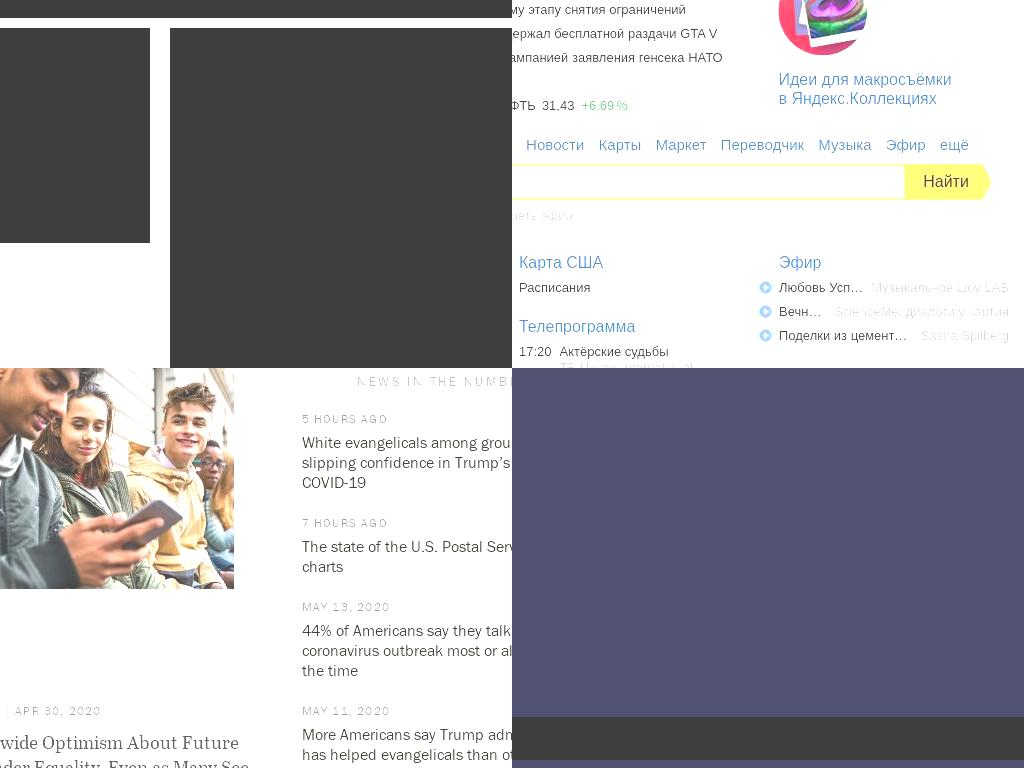button: (0, 368, 234, 590), (0, 28, 150, 243), (301, 431, 512, 492), (301, 619, 512, 680), (301, 535, 512, 576), (301, 723, 512, 764), (778, 0, 899, 60), (778, 70, 952, 108), (904, 164, 992, 201), (779, 328, 921, 345), (779, 280, 871, 297), (720, 136, 804, 154), (526, 136, 585, 154), (818, 136, 873, 154), (655, 136, 707, 154), (779, 304, 834, 321), (598, 136, 642, 154), (885, 136, 926, 154), (939, 136, 969, 154)
field: (512, 164, 904, 201)
heading: (205, 262, 512, 363), (512, 717, 1024, 760), (778, 71, 952, 88), (778, 90, 937, 107), (519, 318, 635, 336), (519, 254, 566, 272), (779, 254, 821, 272), (566, 254, 604, 272)
image: (170, 28, 512, 368), (0, 368, 234, 590), (0, 28, 150, 243), (778, 0, 899, 56), (779, 280, 1009, 296), (779, 304, 1009, 320), (779, 328, 1009, 344), (866, 164, 893, 201)
link: (0, 728, 250, 768), (834, 304, 1010, 321), (871, 280, 1010, 297), (559, 344, 668, 360), (920, 328, 1009, 345), (519, 280, 590, 296), (559, 360, 693, 368), (512, 98, 536, 113)
text: (301, 431, 512, 492), (301, 619, 512, 680), (301, 535, 512, 576), (301, 723, 512, 764), (301, 371, 512, 392), (301, 412, 512, 432), (301, 516, 512, 536), (301, 600, 512, 620), (301, 704, 512, 724), (512, 50, 723, 65), (512, 26, 717, 41), (904, 164, 983, 201), (512, 2, 686, 17), (779, 328, 913, 345), (0, 702, 102, 718), (779, 280, 863, 297), (779, 304, 826, 321), (519, 344, 552, 368), (537, 208, 574, 224), (541, 98, 575, 113), (581, 98, 615, 113), (512, 208, 538, 224), (614, 98, 628, 113)
